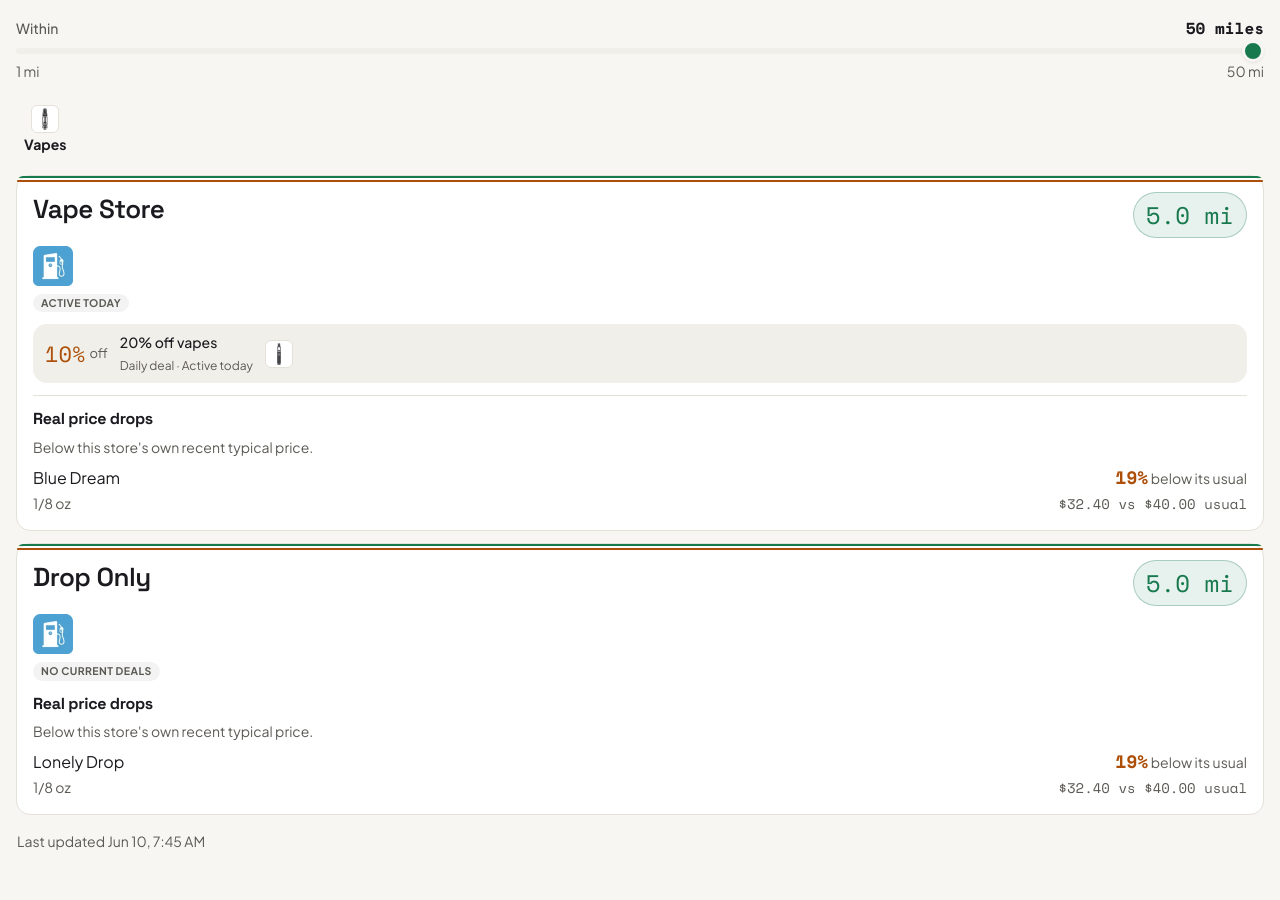
Test: DealFeed — real price drops in cards › does not surface a drop-only card while a category icon is selected
This screenshot has width=1280, height=900.
expect the link "Drop Only" is shown: met, box [33,560,151,594]
Click the button "Vapes": (45, 128) [16,101,74,155]
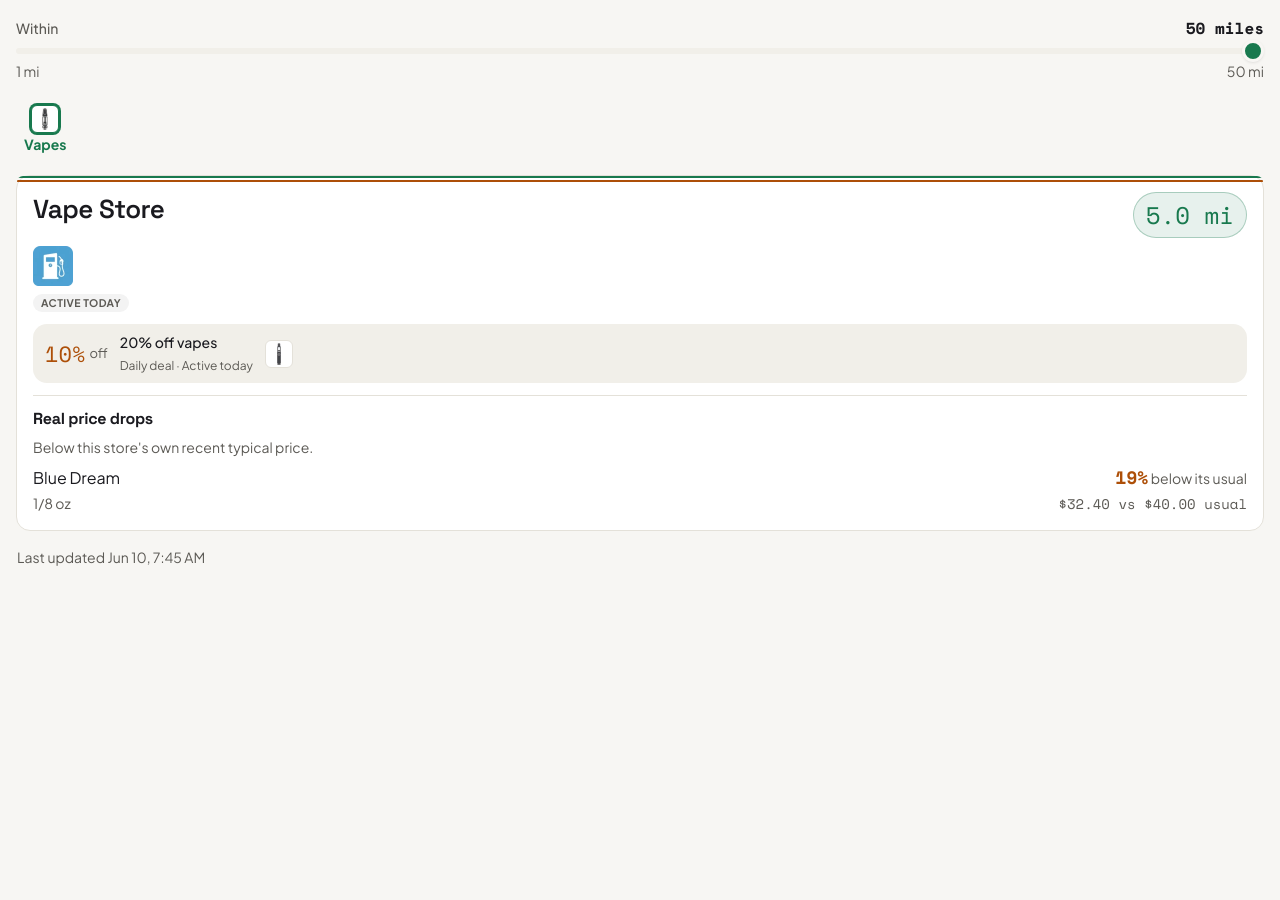
expect the link "Vape Store" is shown: met, box [33,192,164,226]
expect the link "Drop Only" is gone: met
expect the text "Lonely Drop" is gone: met
